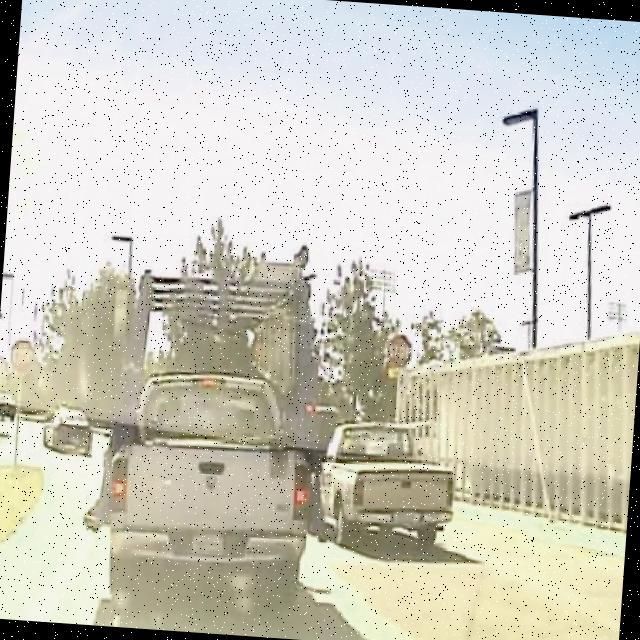Stop: (382, 332, 413, 370)
